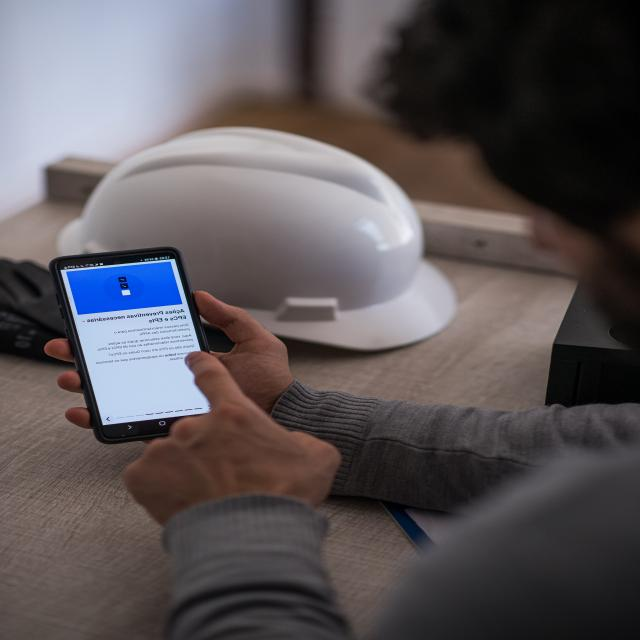capacete: (51, 120, 464, 356)
